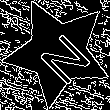N_NW: (26, 20, 90, 84)
